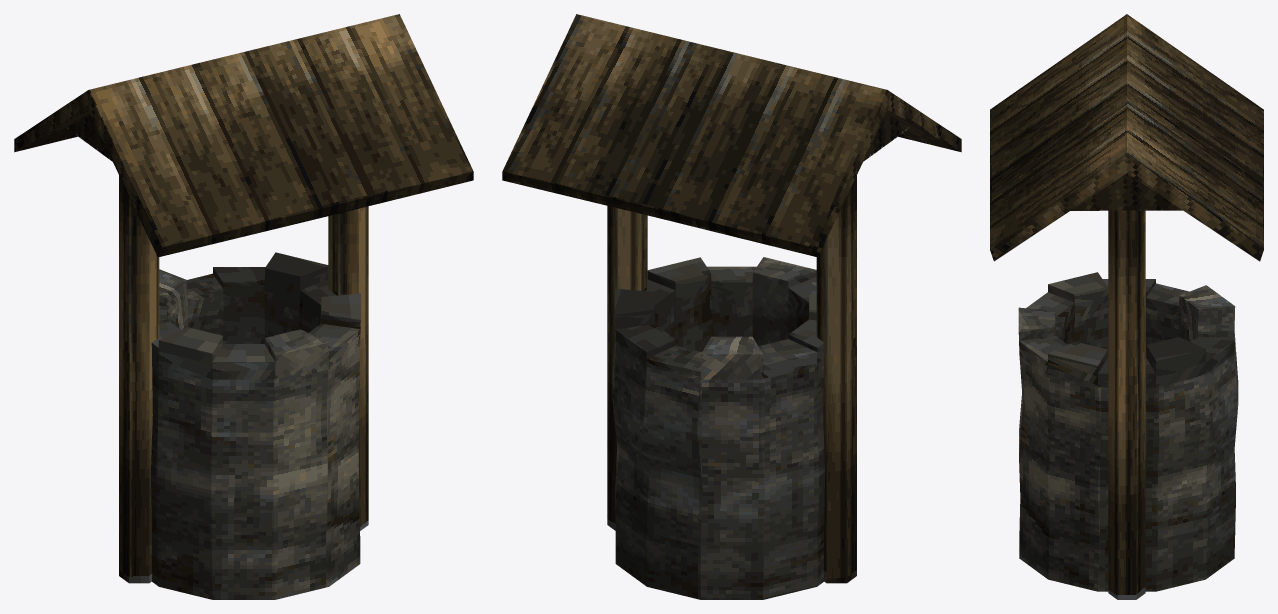
File: well.glb
3 views of the same model, side by side, from view 1: azimuth 30°, elevation 25°; view 2: azimuth 150°, elevation 25°; view 3: azimuth 270°, elevation 25° (orthographic). The views are drawn at different scales.
Visible parts, largest first — view 1: well; view 2: well; view 3: well.
Boxes of the visible parts, x1,y1,x2,y2 form: well: (14, 14, 473, 599); well: (502, 14, 961, 599); well: (990, 14, 1263, 599).
Bounding box in the file's own units: 1.99 × 3 × 1.61.
1 material, 1 textured.
